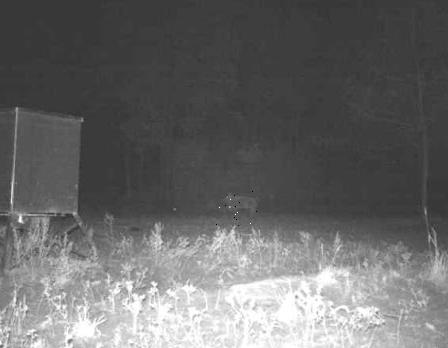Hog: (215, 191, 260, 227)
